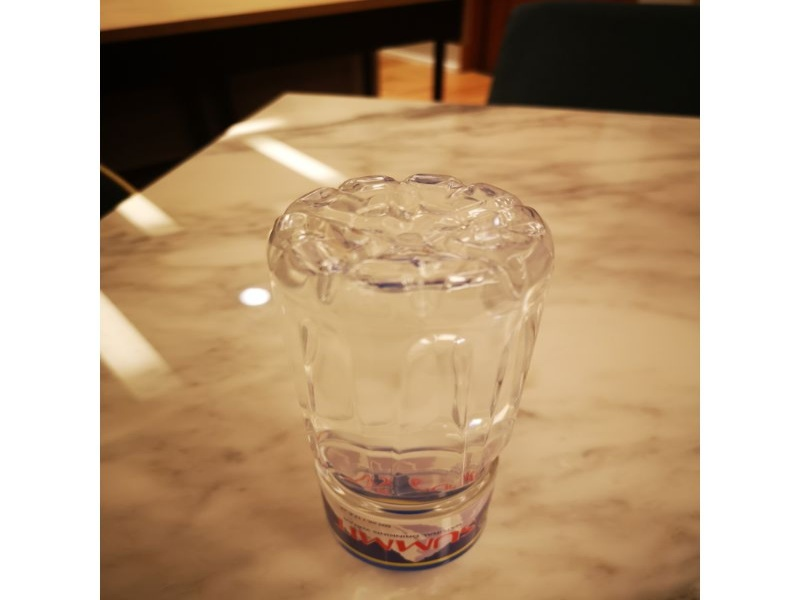PET #1: (262, 167, 559, 573)
